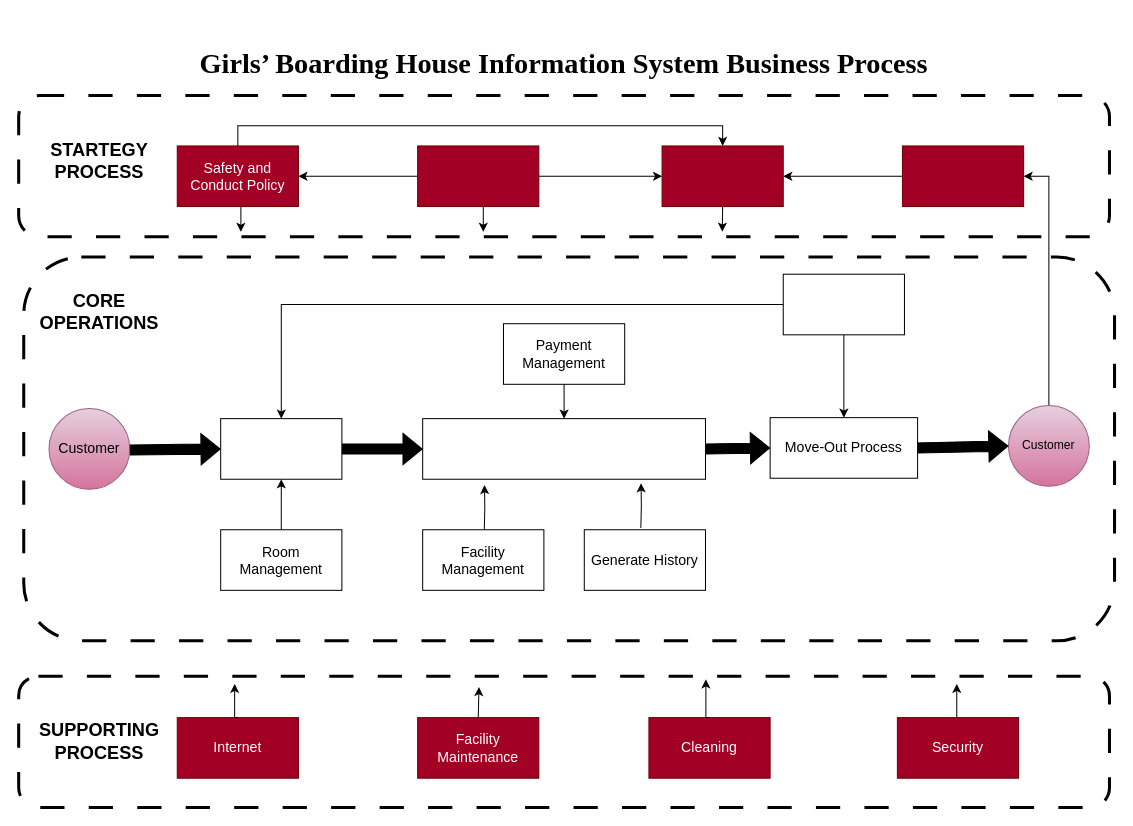
Image size: 1133x826. Some labels were removed from this diagram. The centre of each missing label's shape, as x and y in pixels:
Active Status Tracking: (x=563, y=448)
Customer Feedback: (x=962, y=176)
Enrollment: (x=722, y=176)
Financial Planning: (x=478, y=176)
Room Allocation: (x=281, y=448)
Tenant Management: (x=843, y=304)
